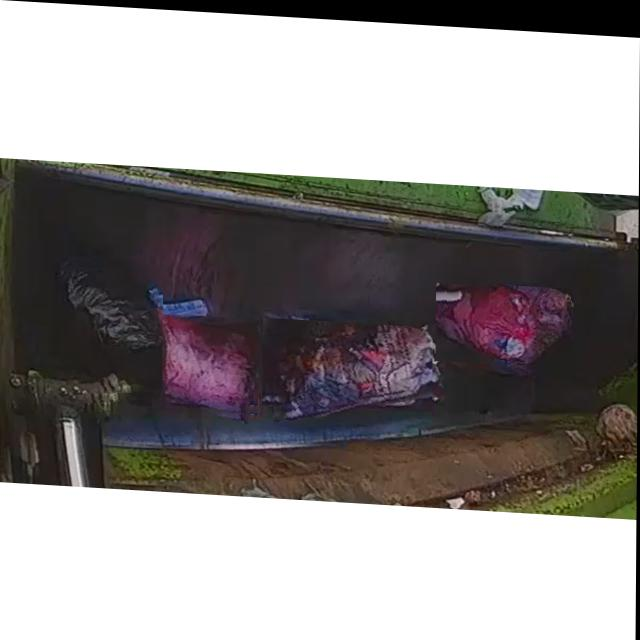other_trashbag: (267, 320, 433, 416), (59, 257, 163, 392), (161, 313, 262, 413), (436, 283, 537, 360), (489, 281, 572, 366)
